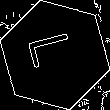L_E: (27, 34, 83, 76)
